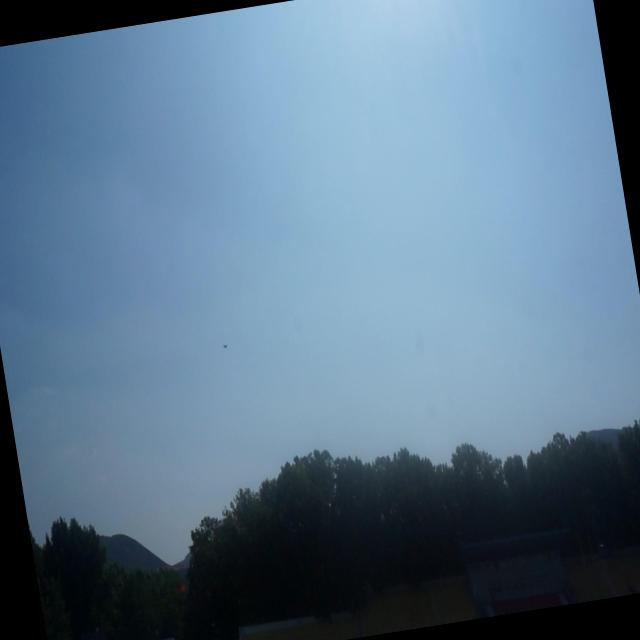drone: (218, 336, 232, 356)
